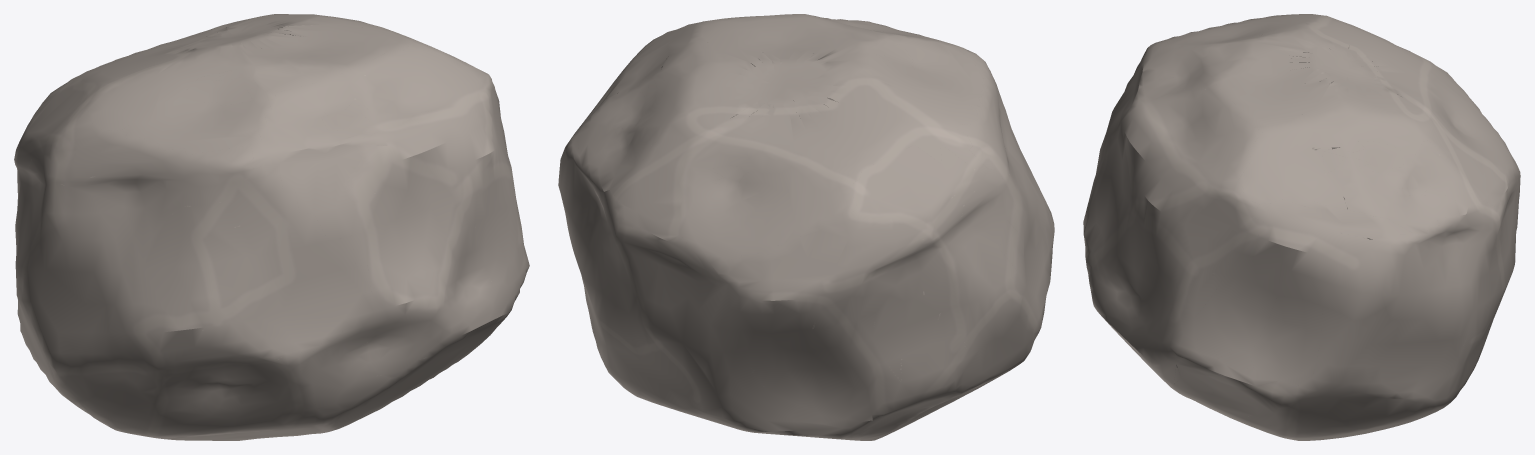
Rendered from rock3.fbx.
3 views of the same model, side by side, from view 1: azimuth 30°, elevation 25°; view 2: azimuth 150°, elevation 25°; view 3: azimuth 270°, elevation 25° (orthographic). The views are drawn at different scales.
Parts seen in each view (by area): view 1: Sphere.007; view 2: Sphere.007; view 3: Sphere.007.
Boxes of the visible parts, <box> form: Sphere.007: <box>14,14,529,440</box>; Sphere.007: <box>558,14,1054,440</box>; Sphere.007: <box>1083,14,1520,440</box>.
Size of the model in its own units: 0.2237 by 0.1783 by 0.2017.
Materials: 1 (1 with a texture image).
